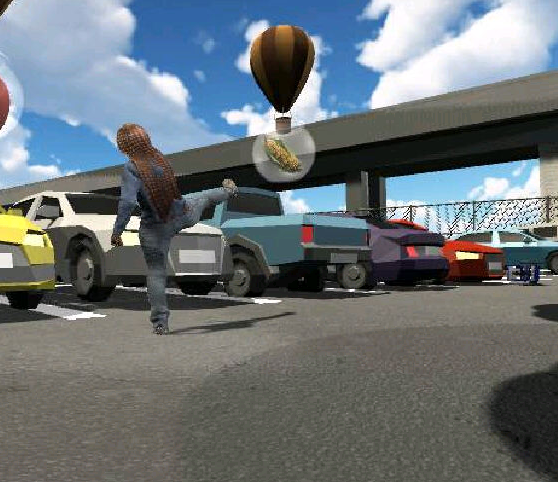turn_right: (104, 125, 247, 339)
